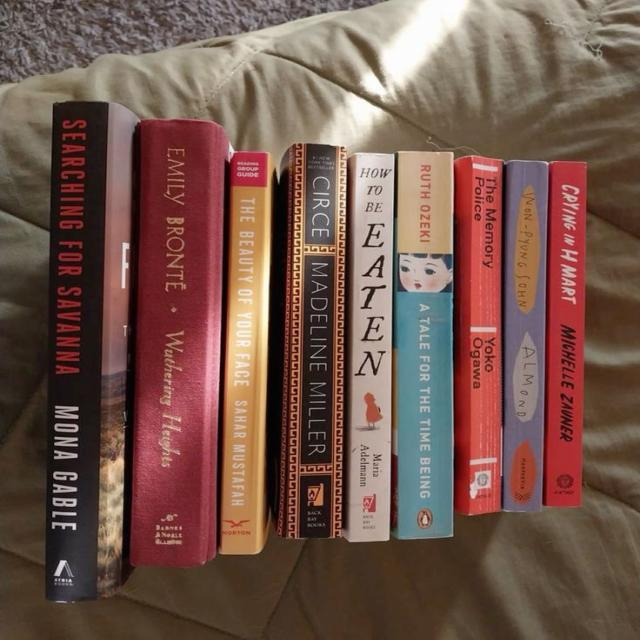book: (129, 120, 228, 566), (51, 102, 112, 600), (269, 144, 345, 537), (392, 153, 453, 539), (218, 152, 272, 554), (342, 153, 394, 541), (454, 156, 503, 515), (502, 160, 546, 511), (543, 161, 586, 506)
